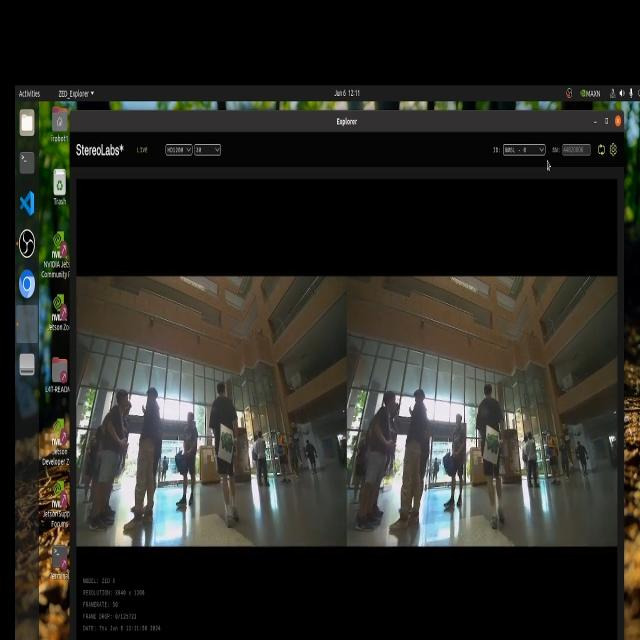green: (484, 428, 502, 467), (217, 428, 234, 460)
